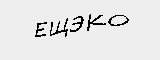Е: (31, 18, 46, 40)
К: (87, 10, 104, 35)
О: (107, 10, 129, 31)
Щ: (49, 17, 69, 39)
Э: (68, 13, 83, 34)
